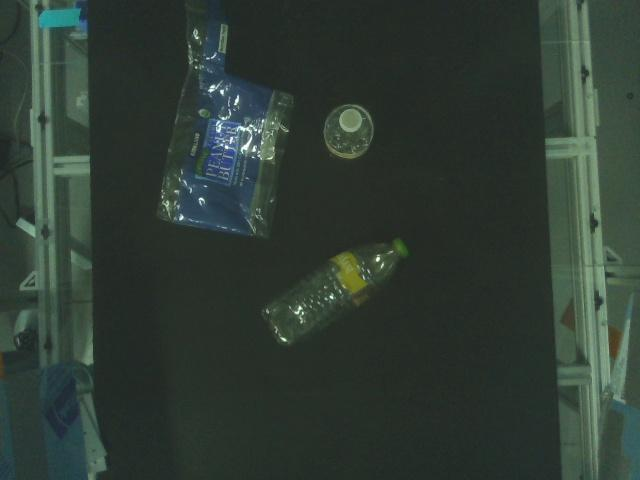plastic: (152, 2, 295, 241), (262, 238, 409, 350), (323, 103, 375, 164)
